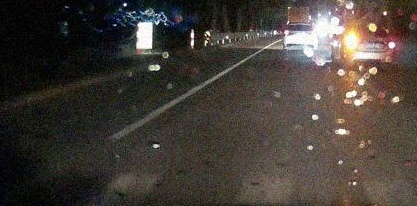L_light: (344, 37, 362, 44), (283, 30, 293, 35)
R_light: (382, 41, 395, 48), (306, 31, 314, 35)
T_light: (366, 25, 376, 27), (298, 24, 303, 25)
night-left: (341, 21, 397, 69), (283, 23, 317, 51)
